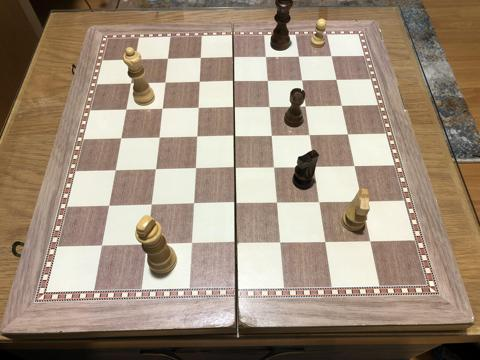xcorner: (326, 49, 338, 61), (293, 50, 305, 62), (261, 50, 273, 62), (228, 51, 240, 63), (195, 51, 207, 63), (163, 52, 175, 64), (130, 53, 142, 65), (331, 73, 343, 85), (297, 73, 309, 85), (263, 74, 275, 86), (228, 75, 240, 87), (194, 75, 206, 87), (160, 76, 172, 88), (126, 76, 138, 88), (337, 99, 349, 111), (301, 99, 313, 111), (265, 100, 277, 112), (229, 101, 241, 113), (193, 101, 205, 113), (157, 102, 169, 114), (121, 103, 133, 115), (343, 127, 355, 139), (305, 128, 317, 140), (267, 129, 279, 141), (229, 129, 241, 141), (191, 130, 203, 142), (153, 131, 165, 143), (116, 132, 128, 144), (349, 159, 361, 171), (310, 160, 322, 172), (270, 161, 282, 173), (230, 161, 242, 173), (190, 162, 202, 174), (150, 163, 162, 175), (110, 164, 122, 176), (357, 195, 369, 207), (315, 196, 327, 208), (273, 196, 285, 208), (230, 197, 242, 209), (188, 198, 200, 210), (146, 199, 158, 211), (103, 200, 115, 212), (366, 235, 378, 247), (321, 236, 333, 248), (276, 237, 288, 249), (231, 238, 243, 250), (186, 238, 198, 250), (141, 239, 153, 251), (96, 240, 108, 252)
